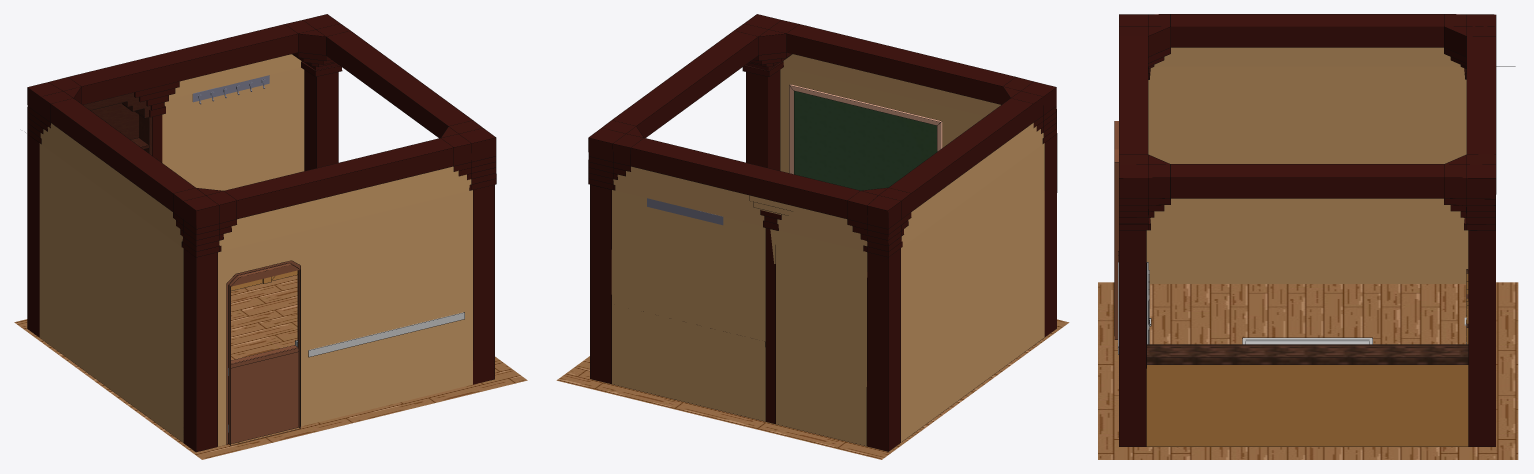
Rendered from YGC_9_1.fbx.
3 views of the same model, side by side, from view 1: azimuth 30°, elevation 25°; view 2: azimuth 150°, elevation 25°; view 3: azimuth 270°, elevation 25° (orthographic). The views are drawn at different scales.
Parts seen in each view (by area): view 1: New_YGC, Floor_ygc, Wireframe_YGC, Bottom_door, New_shelf, Counter_quests, Hooks; view 2: New_YGC, Wireframe_YGC, Floor_ygc, Hooks; view 3: New_YGC, Floor_ygc, Wireframe_YGC, Coin_drawer.
Boxes of the visible parts, x1,y1,x2,y2 form: New_YGC: [27, 14, 496, 451]; Floor_ygc: [14, 275, 527, 459]; Wireframe_YGC: [25, 14, 496, 452]; Bottom_door: [228, 345, 298, 443]; New_shelf: [83, 92, 151, 155]; Counter_quests: [295, 312, 464, 356]; Hooks: [192, 75, 269, 104]; New_YGC: [588, 14, 1056, 451]; Wireframe_YGC: [588, 14, 1057, 451]; Floor_ygc: [556, 319, 1069, 459]; Hooks: [647, 198, 723, 225]; New_YGC: [1114, 14, 1495, 446]; Floor_ygc: [1098, 282, 1518, 459]; Wireframe_YGC: [1114, 14, 1515, 446]; Coin_drawer: [1242, 337, 1372, 344].
Bounding box in the file's own units: 2059 × 1461 × 2066.
